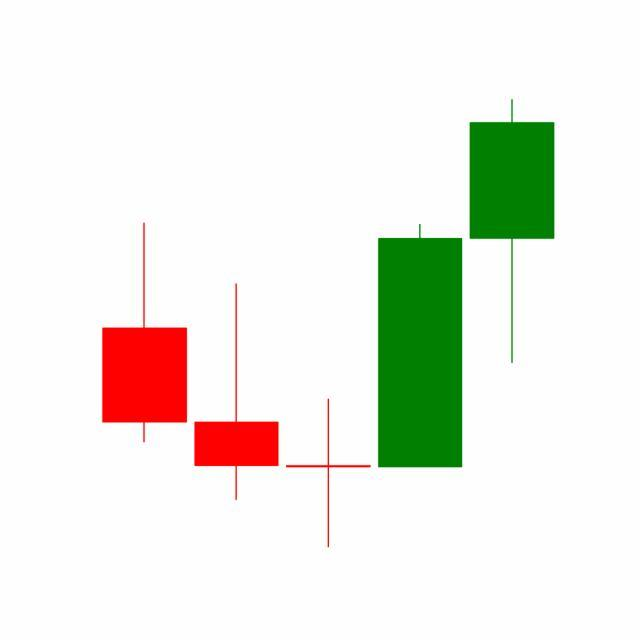Marubozu: (374, 222, 468, 470)
